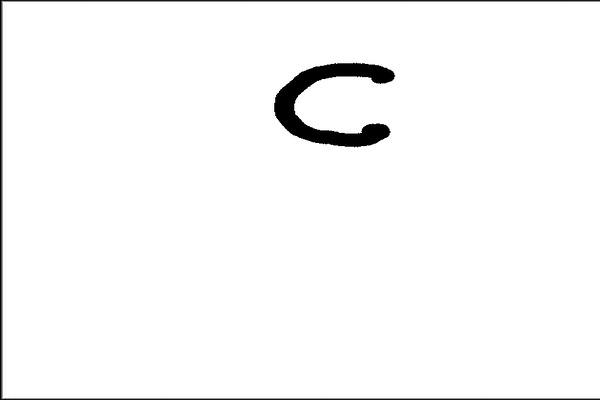C: (266, 57, 400, 150)
